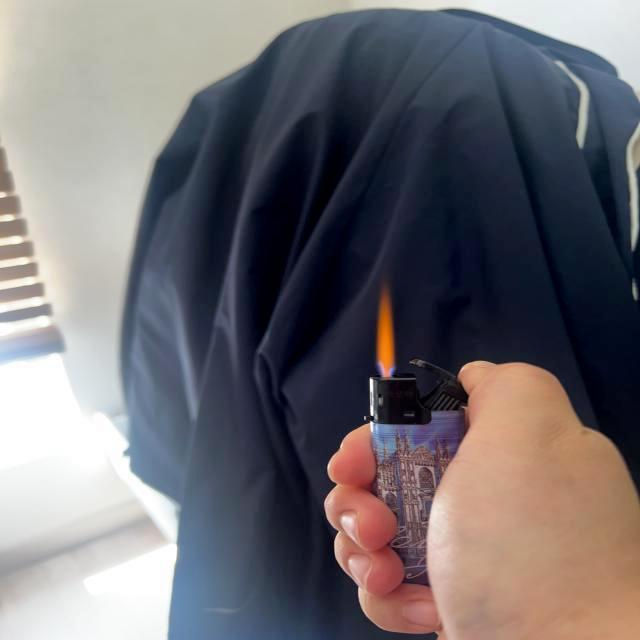fire: (372, 286, 398, 372)
